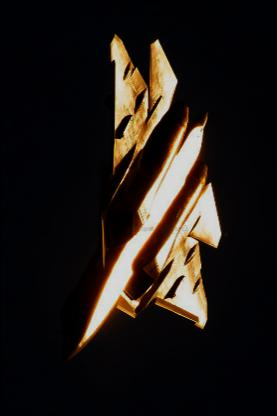SR71: (59, 32, 221, 362)
